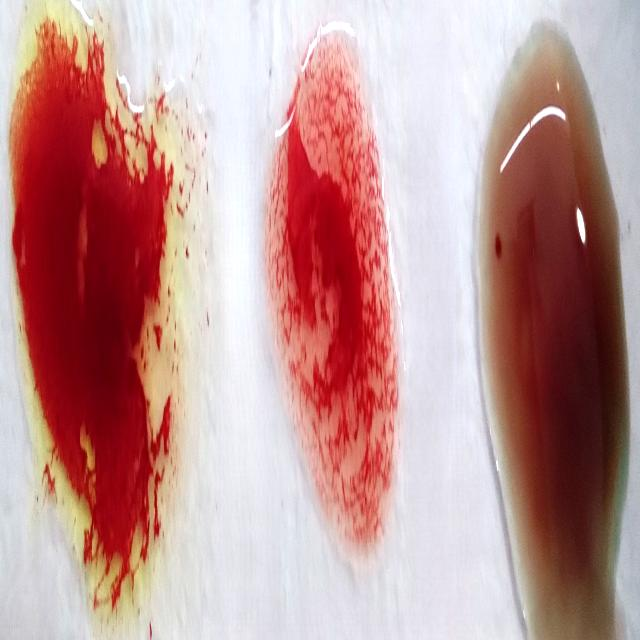B: (6, 15, 186, 640)
D: (272, 28, 393, 552)
